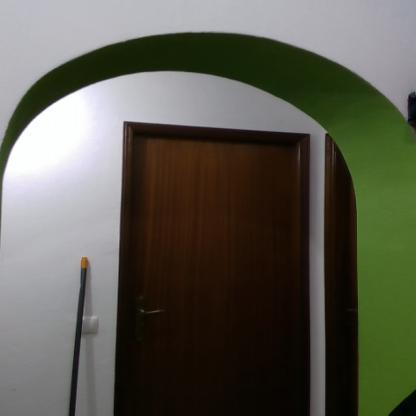door: (134, 134, 299, 416)
lever: (134, 307, 168, 317)
